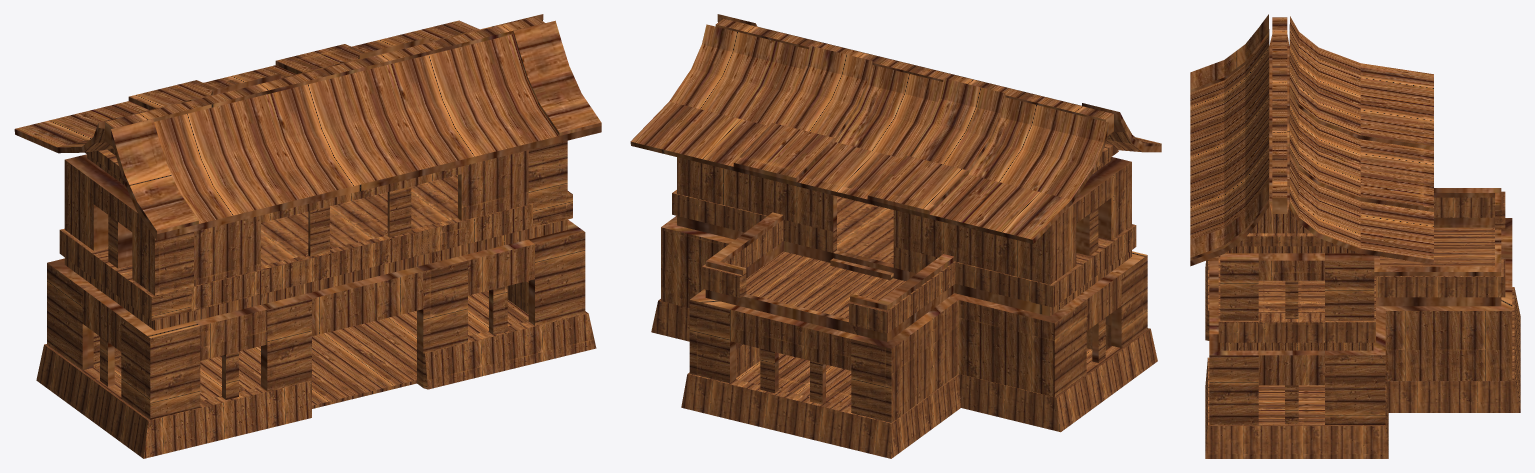
File: casamedieval.fbx
The picture shows the model from 3 angles, left to right: view 1: azimuth 30°, elevation 25°; view 2: azimuth 150°, elevation 25°; view 3: azimuth 270°, elevation 25°; orthographic projection. The views are drawn at different scales.
Parts seen in each view (by area): view 1: Cube; view 2: Cube; view 3: Cube.
Boxes of the visible parts, x1,y1,x2,y2 form: Cube: (14,14,601,458); Cube: (630,14,1161,458); Cube: (1190,14,1520,458).
Bounding box in the file's own units: 6481 × 4151 × 4784.
